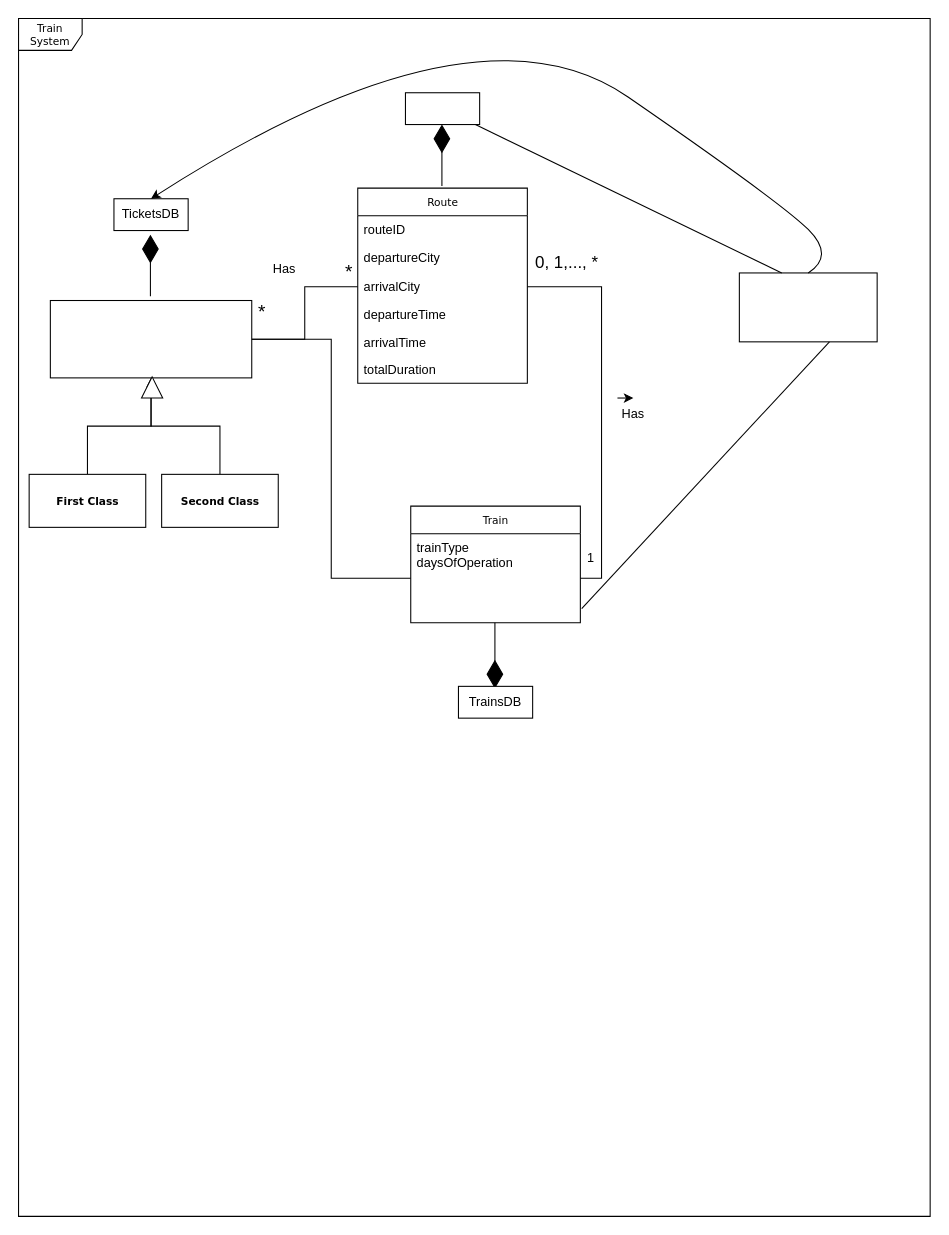
Image size: 949x1235. Some labels were removed from this diagram. The centre of each missing label's shape, as x and y in pixels:
Console: (x=807, y=307)
RoutesDB: (x=442, y=108)
TIcket ticketRate: (x=150, y=338)
